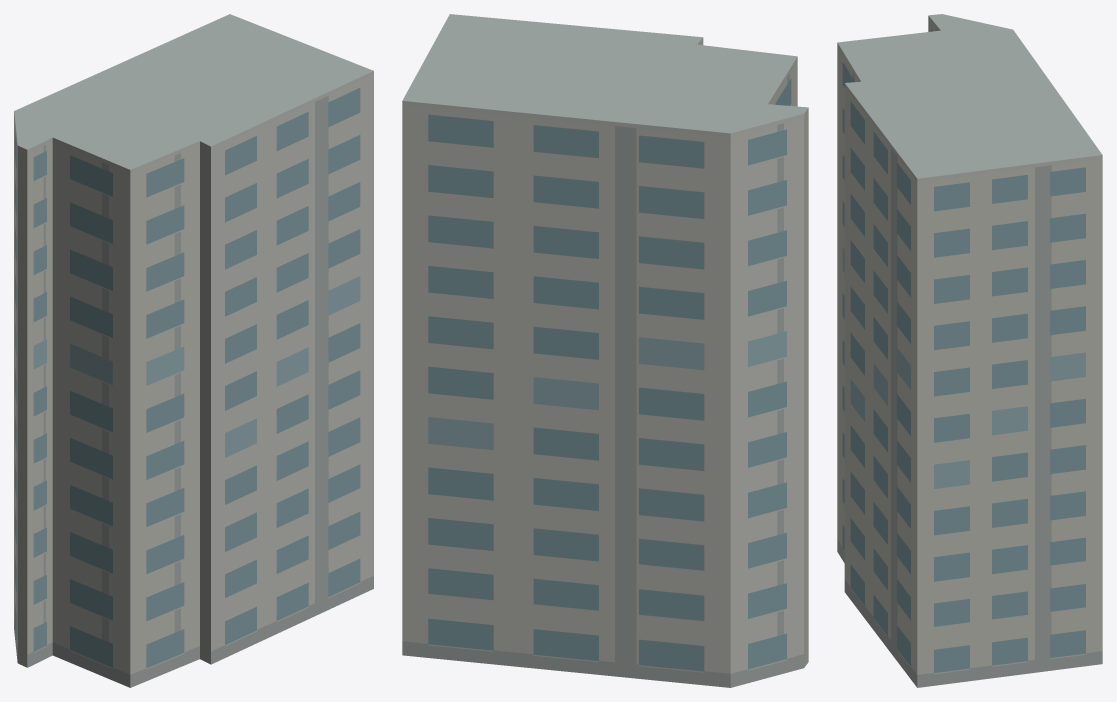
File: survey-upis-32837430.glb
The picture shows the model from 3 angles, left to right: view 1: azimuth 30°, elevation 25°; view 2: azimuth 150°, elevation 25°; view 3: azimuth 270°, elevation 25°; orthographic projection. The views are drawn at different scales.
Visible parts, largest first — view 1: survey-upis-32837430.tmp; view 2: survey-upis-32837430.tmp; view 3: survey-upis-32837430.tmp.
Boxes of the visible parts, x1,y1,x2,y2 form: survey-upis-32837430.tmp: (14, 14, 373, 687); survey-upis-32837430.tmp: (402, 14, 808, 687); survey-upis-32837430.tmp: (837, 14, 1102, 687).
Bounding box in the file's own units: 23.3 × 33.55 × 15.85.
